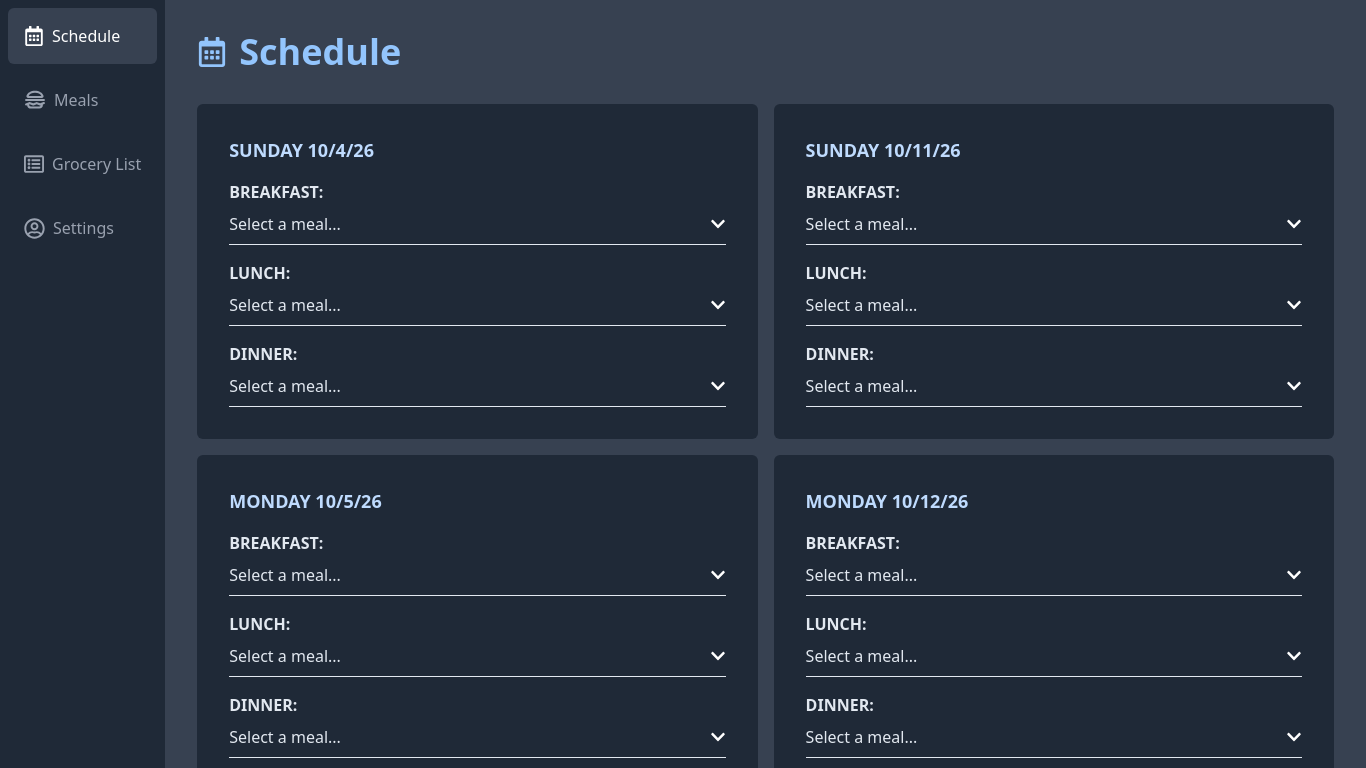
Test: App Component › when user is logged in › Meals link renders Meals Page
What coordinates should you click on to do the following:
click the link "Meals"
I would click on:
 (61, 100)
Its box is left=24, top=89, right=98, bottom=111.
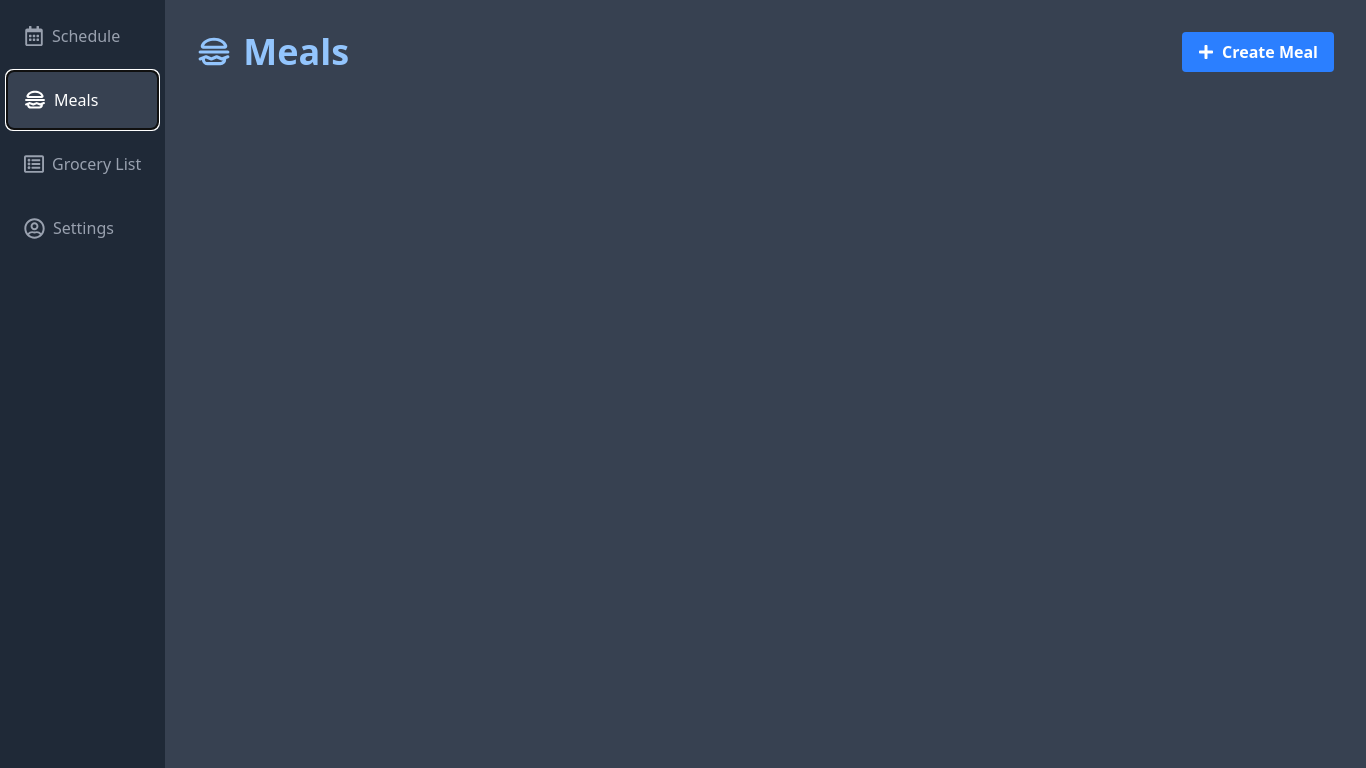
Result: the heading "Meals" is shown at left=197, top=32, right=349, bottom=72
